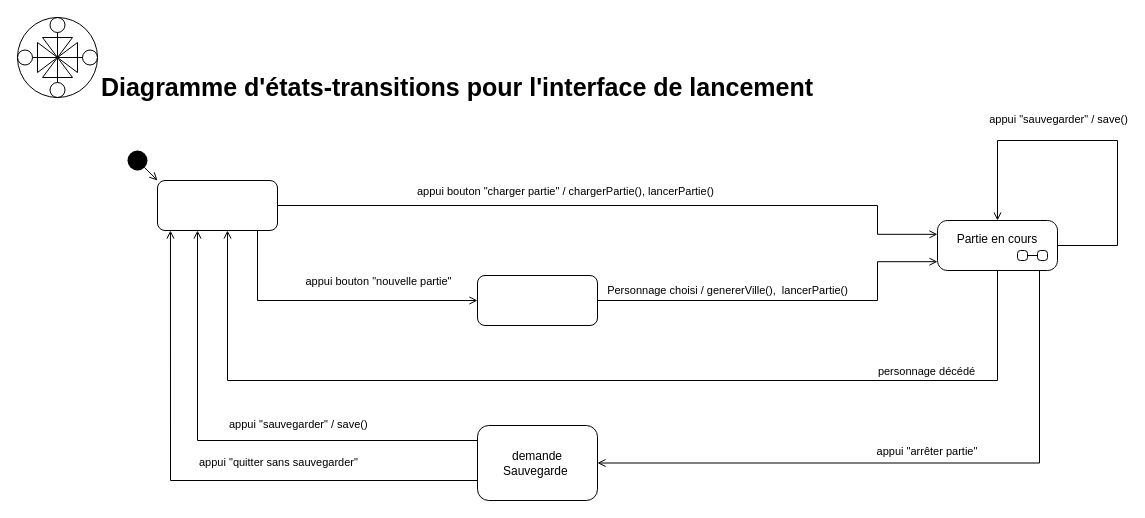
Image size: 1145x518. Some labels were removed from this diagram. The box of each missing label's shape, as (x1, y1, x2, y2) in pixels:
Ecran choix personnage: (476, 274, 598, 326)
Écran d'Accueil: (156, 180, 278, 230)
